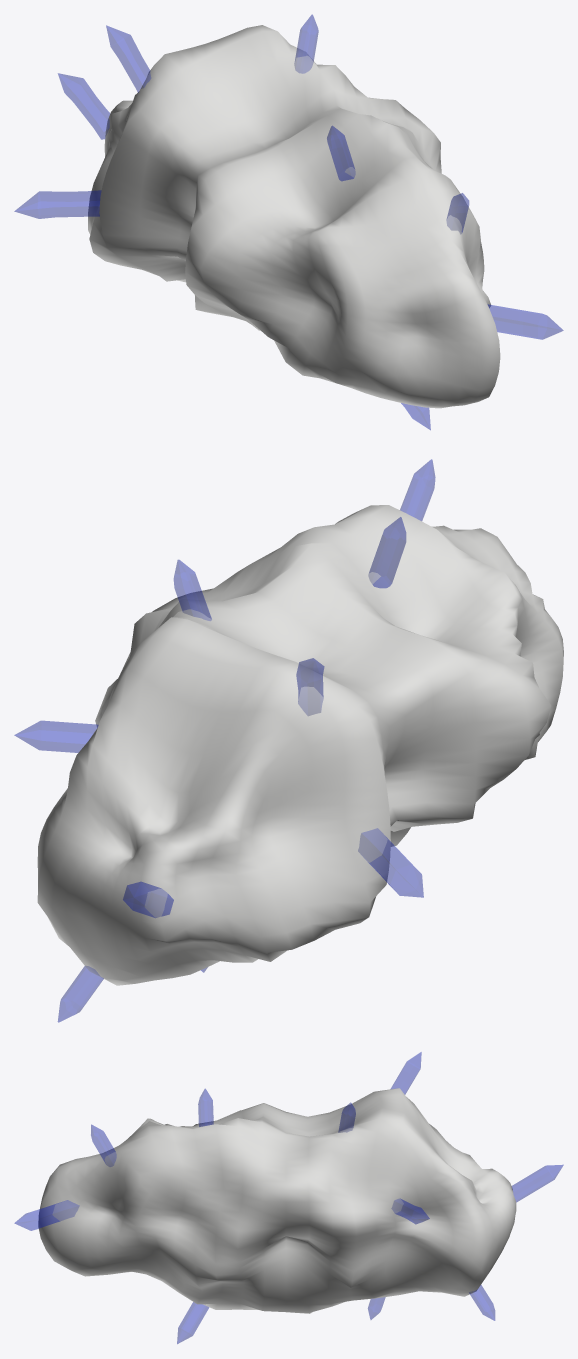
File: a-croiseur.glb
3 views of the same model, one above another, from view 1: azimuth 30°, elevation 25°; view 2: azimuth 150°, elevation 25°; view 3: azimuth 270°, elevation 25° (orthographic). The views are drawn at different scales.
Parts seen in each view (by area): view 1: azeti, crystals; view 2: azeti, crystals; view 3: azeti, crystals.
Part boxes in pixels (x1=…): azeti: x1=88, y1=25, x2=500, y2=408; crystals: x1=14, y1=14, x2=563, y2=429; azeti: x1=37, y1=505, x2=563, y2=985; crystals: x1=14, y1=459, x2=435, y2=1022; azeti: x1=38, y1=1088, x2=516, y2=1313; crystals: x1=14, y1=1052, x2=563, y2=1343.
Size of the model in its own units: 21.14 by 20.46 by 42.15.
